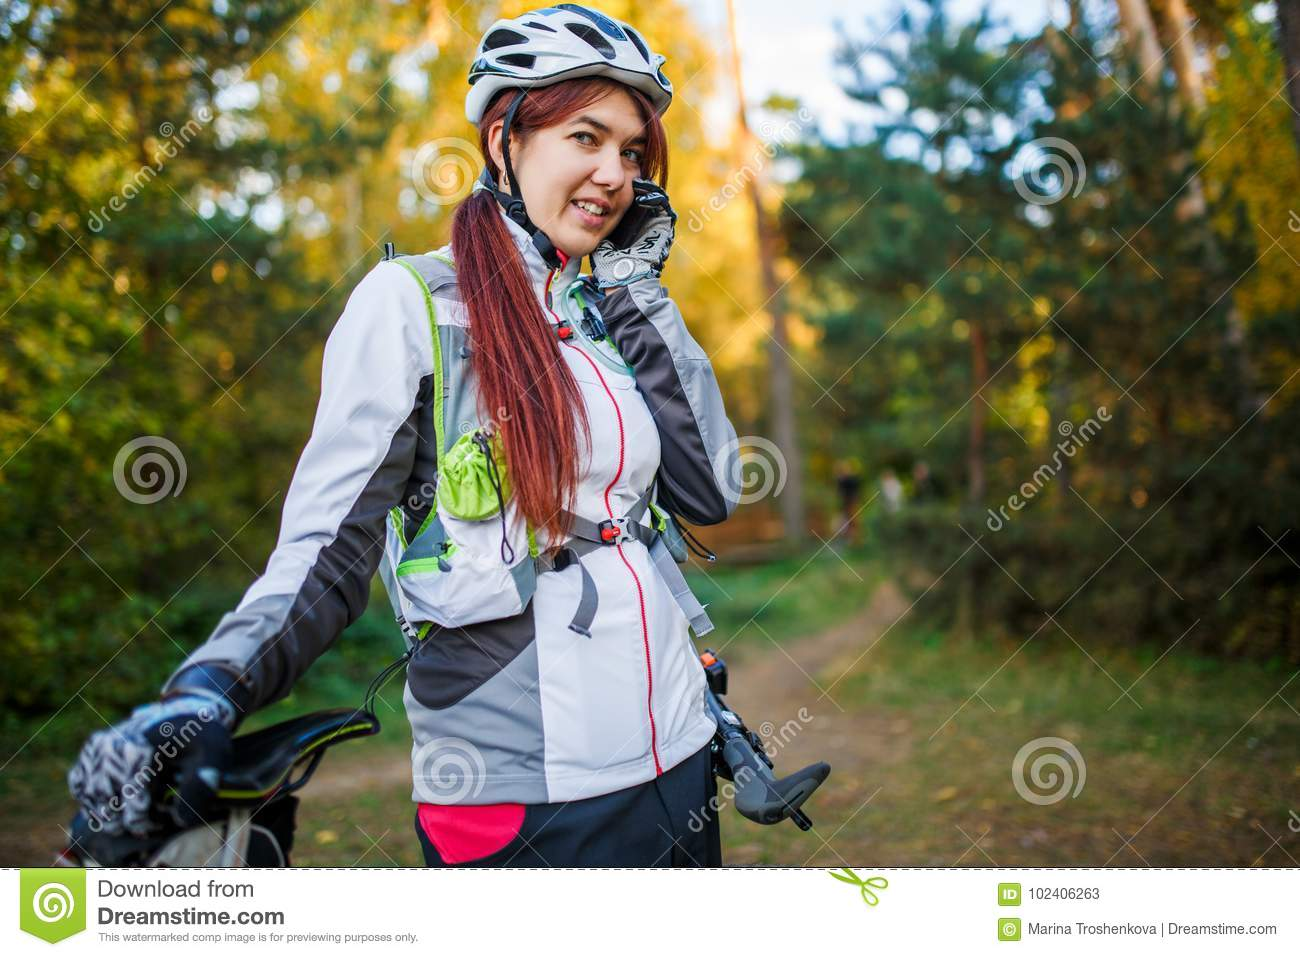phone: (608, 195, 655, 252)
talk: (553, 113, 678, 290)
